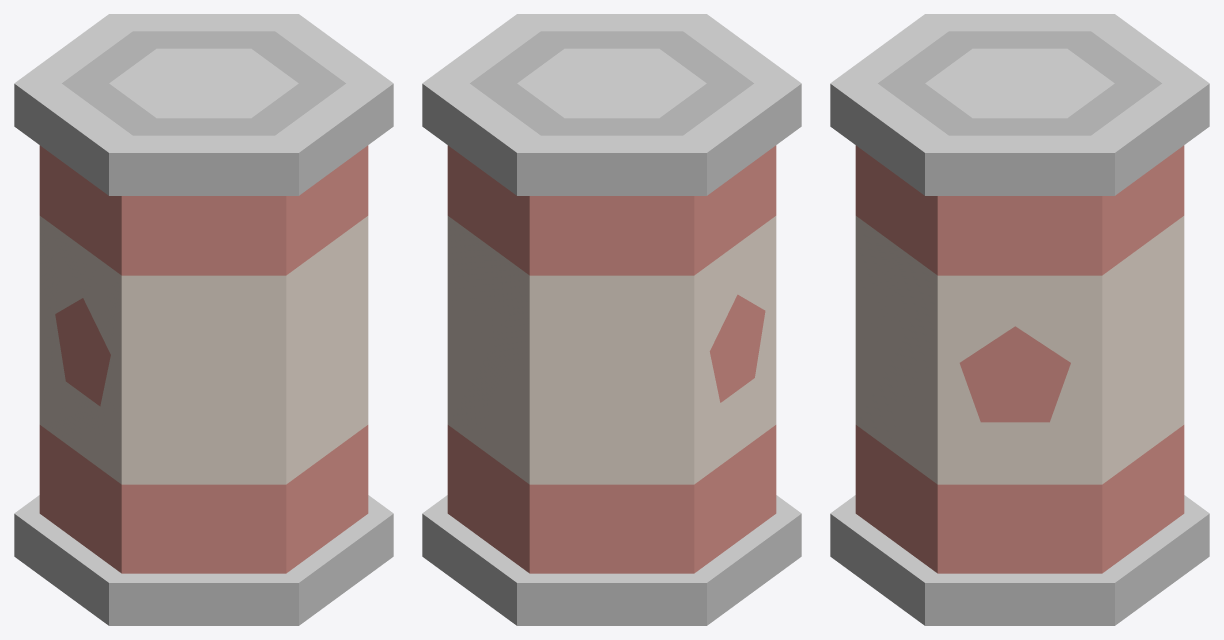
Rendered from SoupCan.fbx.
3 renders of one model, left to right at view 1: azimuth 30°, elevation 25°; view 2: azimuth 150°, elevation 25°; view 3: azimuth 270°, elevation 25°, orthographic.
Visible parts, largest first — view 1: SoupCan; view 2: SoupCan; view 3: SoupCan.
Part boxes in pixels (x1,y1,x2,y2): SoupCan: [14, 14, 393, 625]; SoupCan: [422, 14, 801, 625]; SoupCan: [830, 14, 1209, 625].
Bounding box in the file's own units: 0.0693 × 0.11 × 0.08.
